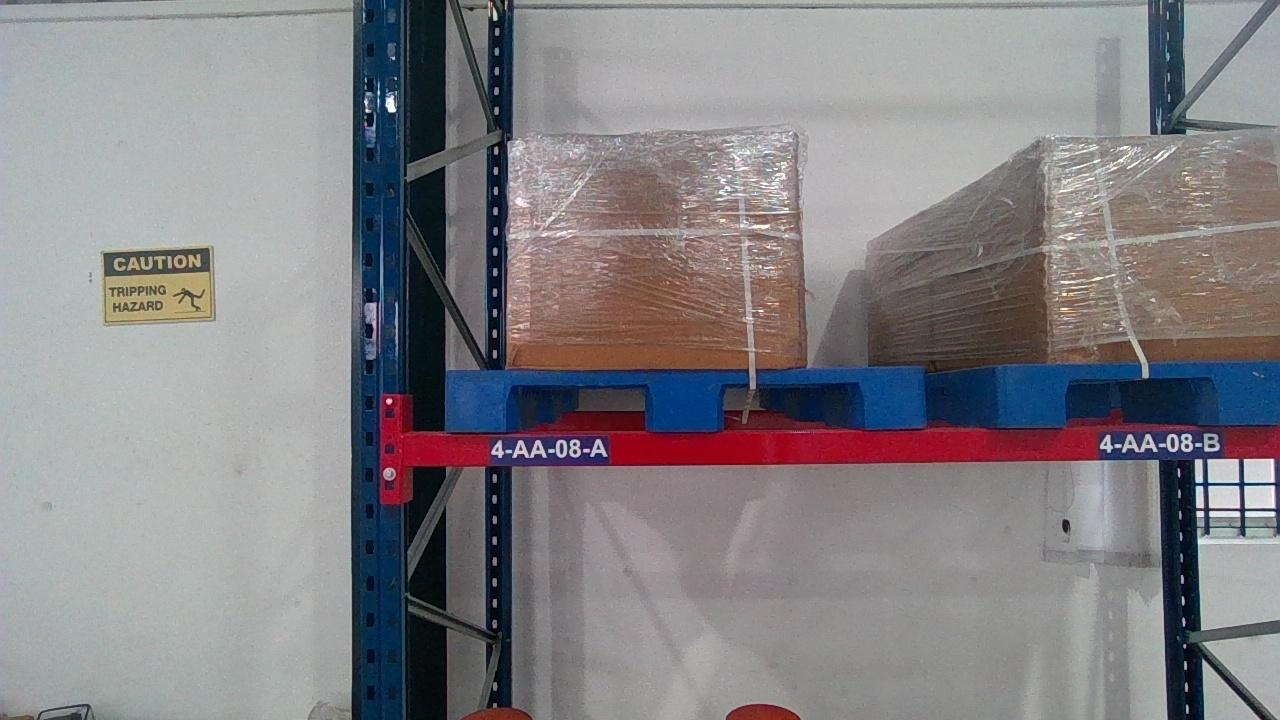h_rack: (405, 426, 1278, 464)
small_pallet: (440, 368, 922, 428), (1000, 360, 1277, 422)
